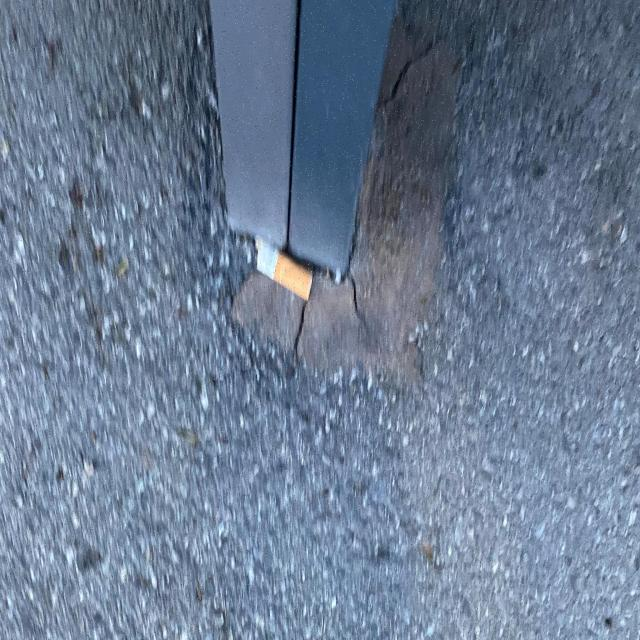other waste: (252, 233, 314, 304)
